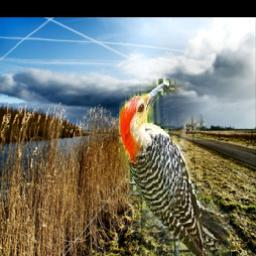Woodpecker: (119, 79, 230, 256)
